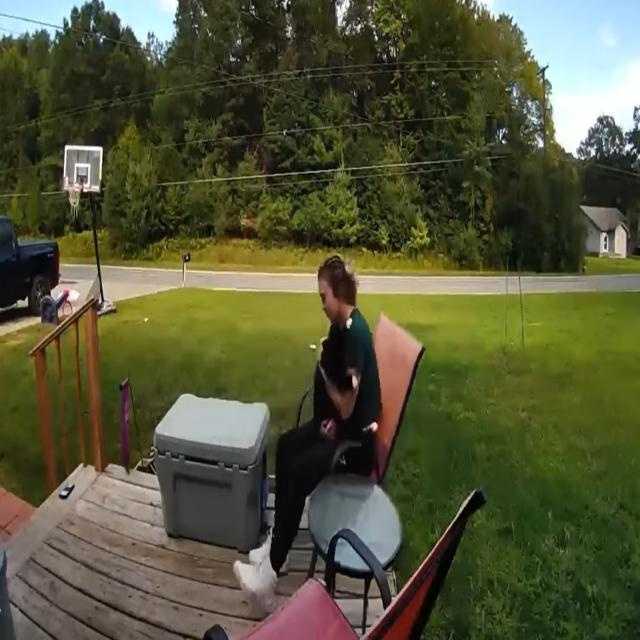sitting: (234, 255, 382, 611)
